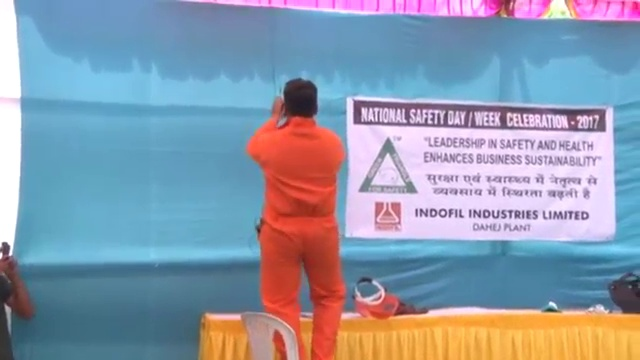helmet_off: (282, 78, 319, 119)
person: (244, 77, 351, 360)
